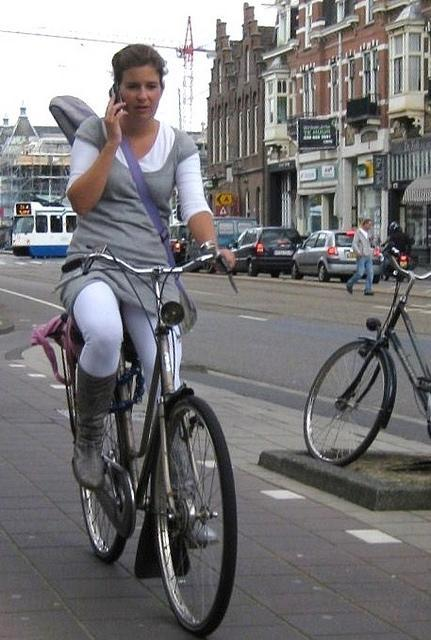bicycle: (49, 242, 238, 636), (302, 239, 431, 466)
bus: (11, 202, 77, 260)
car: (219, 225, 304, 281), (291, 231, 360, 284), (188, 217, 258, 261), (168, 223, 187, 267)
motorcycle: (381, 246, 419, 282)
